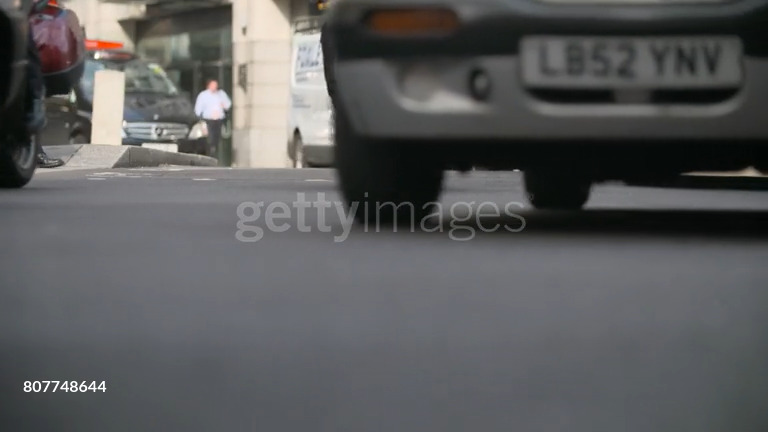car number: (521, 34, 737, 86)
